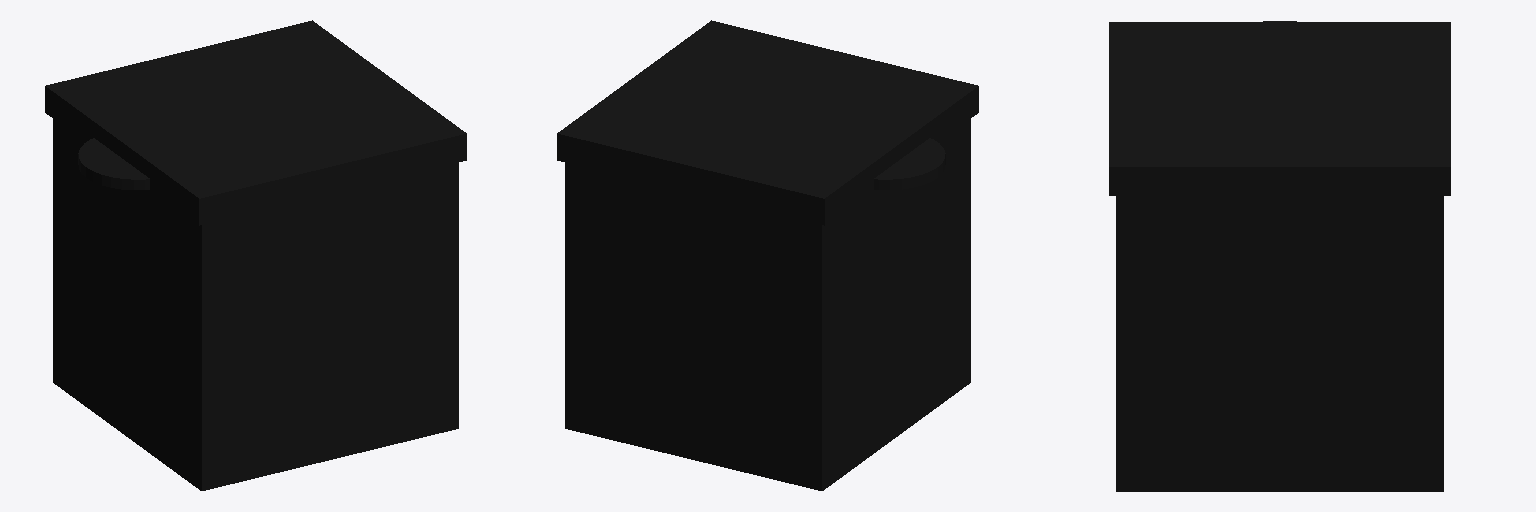
The robot description file, URDF, robot "edge_hinged_box":
<?xml version="1.0"?>
<robot name="edge_hinged_box">

  <material name="box_body">
    <color rgba="0.12 0.12 0.12 1.0"/>
  </material>
  <material name="lid_color">
    <color rgba="0.12 0.12 0.12 1.0"/>
  </material>

  <!-- ===== 底座 ===== -->
  <link name="base_link">
    <visual>
      <origin xyz="0 0 0.005"/>
      <geometry><box size="0.10 0.10 0.01"/></geometry>
      <material name="box_body"/>
    </visual>
    <collision>
      <origin xyz="0 0 0.005"/>
      <geometry><box size="0.10 0.10 0.01"/></geometry>
    </collision>
    <inertial>
      <mass value="1.20"/> <!-- 0.15 * 8 -->
      <origin xyz="0 0 0.005"/>
      <inertia ixx="4e-3" ixy="0" ixz="0"
               iyy="4e-3" iyz="0"
               izz="4e-3"/>
    </inertial>
  </link>

  <!-- ===== 前壁 ===== -->
  <link name="front_wall">
    <visual>
      <origin xyz="0 0.045 0.05"/>
      <geometry><box size="0.10 0.01 0.10"/></geometry>
      <material name="box_body"/>
    </visual>
    <collision>
      <origin xyz="0 0.045 0.05"/>
      <geometry><box size="0.10 0.01 0.10"/></geometry>
    </collision>
  </link>

  <!-- ===== 后壁（铰链侧） ===== -->
  <link name="back_wall">
    <visual>
      <origin xyz="0 -0.045 0.05"/>
      <geometry><box size="0.10 0.01 0.10"/></geometry>
      <material name="box_body"/>
    </visual>
    <collision>
      <origin xyz="0 -0.045 0.05"/>
      <geometry><box size="0.10 0.01 0.10"/></geometry>
    </collision>
  </link>

  <!-- ===== 侧壁 ===== -->
  <link name="left_wall">
    <visual>
      <origin xyz="-0.045 0 0.05"/>
      <geometry><box size="0.01 0.10 0.10"/></geometry>
      <material name="box_body"/>
    </visual>
    <collision>
      <origin xyz="-0.045 0 0.05"/>
      <geometry><box size="0.01 0.10 0.10"/></geometry>
    </collision>
  </link>

  <link name="right_wall">
    <visual>
      <origin xyz="0.045 0 0.05"/>
      <geometry><box size="0.01 0.10 0.10"/></geometry>
      <material name="box_body"/>
    </visual>
    <collision>
      <origin xyz="0.045 0 0.05"/>
      <geometry><box size="0.01 0.10 0.10"/></geometry>
    </collision>
  </link>

  <!-- ===== 盖子 ===== -->
  <link name="lid_link">
    <visual>
      <origin xyz="-0.05 0 0.005"/>
      <geometry><box size="0.104 0.104 0.01"/></geometry>
      <material name="lid_color"/>
    </visual>
    <collision>
      <origin xyz="-0.05 0 0.005"/>
      <geometry><box size="0.104 0.104 0.01"/></geometry>
    </collision>
    <inertial>
      <mass value="0.16"/> <!-- 0.02 * 8 -->
      <origin xyz="0 0 0.005"/>
      <inertia ixx="1.6e-3" ixy="0" ixz="0"
               iyy="1.6e-3" iyz="0"
               izz="1.6e-3"/>
    </inertial>
  </link>

  <!-- ===== 盖子把手（直径 2cm） ===== -->
  <link name="lid_handle">
    <visual>
      <origin xyz="-0.096 0.0 0.002" rpy="0 0 0"/>
      <geometry>
        <cylinder radius="0.02" length="0.004"/>
      </geometry>
      <material name="lid_color"/>
    </visual>
    <collision>
      <origin xyz="-0.096 0.0 0.002" rpy="0 0 0"/>
      <geometry>
        <cylinder radius="0.02" length="0.004"/>
      </geometry>
    </collision>
    <inertial>
      <mass value="0.04"/> <!-- 0.005 * 8 -->
      <origin xyz="0 0 0"/>
      <inertia ixx="8e-6" ixy="0" ixz="0"
               iyy="8e-6" iyz="0"
               izz="8e-6"/>
    </inertial>
  </link>

  <!-- ===== 固定关节 ===== -->
  <joint name="j_front" type="fixed">
    <parent link="base_link"/>
    <child link="front_wall"/>
  </joint>

  <joint name="j_back" type="fixed">
    <parent link="base_link"/>
    <child link="back_wall"/>
  </joint>

  <joint name="j_left" type="fixed">
    <parent link="base_link"/>
    <child link="left_wall"/>
  </joint>

  <joint name="j_right" type="fixed">
    <parent link="base_link"/>
    <child link="right_wall"/>
  </joint>

  <!-- ===== 旋转铰链 ===== -->
  <joint name="lid_joint" type="revolute">
    <parent link="back_wall"/>
    <child link="lid_link"/>
    <origin xyz="0.05 0 0.10"/>
    <axis xyz="0 1 0"/>
    <limit lower="0" upper="2" effort="10" velocity="3"/>
    <dynamics damping="0.005" friction="0.01"/>
  </joint>

  <joint name="lid_handle_joint" type="fixed">
    <parent link="lid_link"/>
    <child link="lid_handle"/>
  </joint>

</robot>

--- Facts derived from the render (not from the file) ---
3 views of the same robot in one strip: view 1: azimuth 30°, elevation 25°; view 2: azimuth 150°, elevation 25°; view 3: azimuth 270°, elevation 25° (orthographic).
Model edge_hinged_box with 7 links and 6 joints (1 revolute, 5 fixed), rooted at base_link, posed all joints at 0.
Links seen in each view (by area): view 1: back_wall, lid_link, left_wall, base_link, front_wall, lid_handle, right_wall; view 2: front_wall, lid_link, left_wall, base_link, back_wall, lid_handle, right_wall; view 3: right_wall, lid_link, front_wall, back_wall, base_link.
Boxes of the visible links, x1,y1,x2,y2 form: back_wall: (187,163,458,490); lid_link: (45,20,466,225); left_wall: (53,119,226,490); base_link: (53,356,458,490); front_wall: (53,120,67,388); lid_handle: (78,138,149,189); right_wall: (433,163,458,430); front_wall: (565,163,836,490); lid_link: (557,20,978,225); left_wall: (797,120,970,490); base_link: (566,356,970,490); back_wall: (956,119,970,392); lid_handle: (874,138,945,189); right_wall: (565,164,590,431); right_wall: (1116,196,1443,491); lid_link: (1109,22,1450,195); front_wall: (1412,196,1443,491); back_wall: (1116,196,1147,491); base_link: (1116,462,1443,491).
Bounding box of the posed robot: 0.118 × 0.104 × 0.11 m (x, y, z).
Geometry: primitives only (box / cylinder / sphere), no mesh files.
